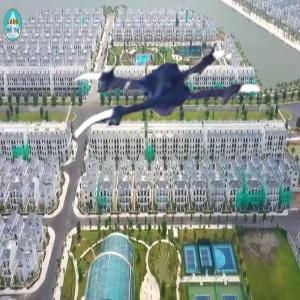drone: (68, 15, 259, 206)
